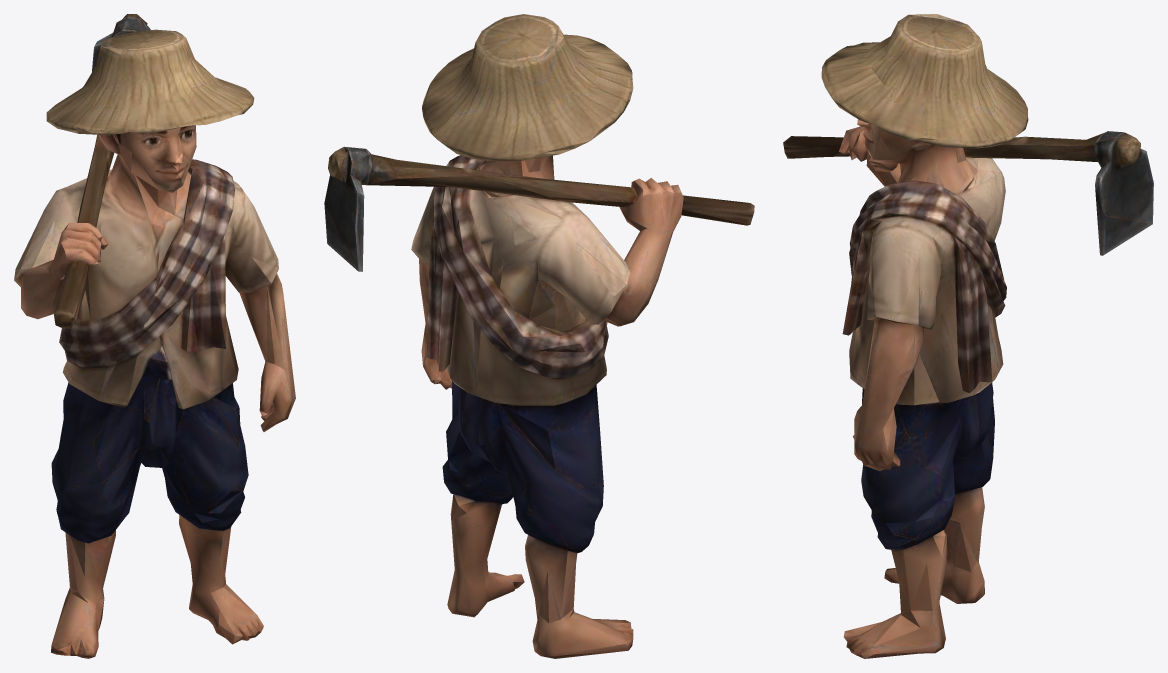
Rendered from ayutthaya_aldeano.glb.
The picture shows the model from 3 angles, left to right: view 1: azimuth 30°, elevation 25°; view 2: azimuth 150°, elevation 25°; view 3: azimuth 270°, elevation 25°; orthographic projection.
Visible parts, largest first — view 1: Mesh_0; view 2: Mesh_0; view 3: Mesh_0.
Part boxes in pixels (left/top/right/bottom): Mesh_0: left=14, top=14, right=295, bottom=658; Mesh_0: left=324, top=14, right=754, bottom=658; Mesh_0: left=783, top=14, right=1153, bottom=658.
Size of the model in its own units: 0.947 by 1.9 by 1.07.
Materials: 1 (1 with a texture image).
